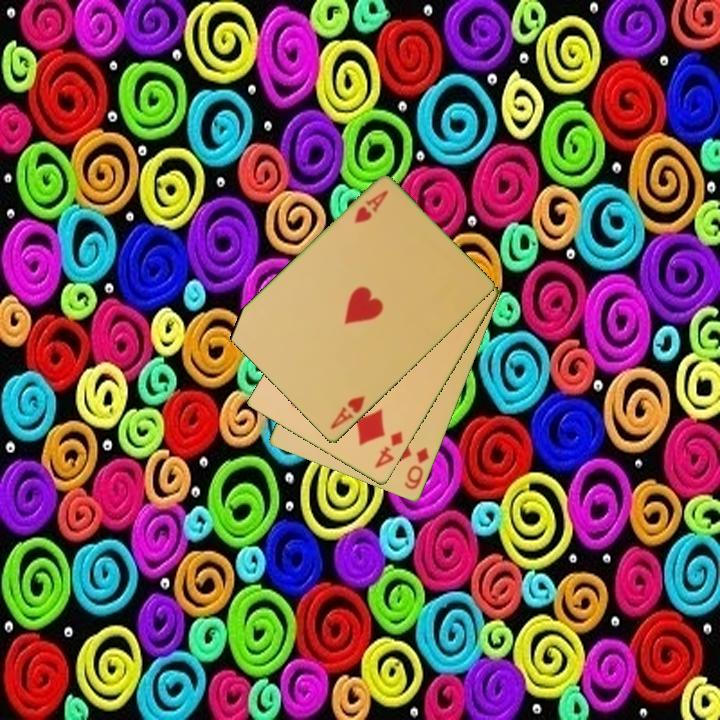4d: (371, 428, 406, 472)
6d: (401, 444, 432, 493)
Ah: (327, 392, 368, 433), (350, 187, 391, 227)
